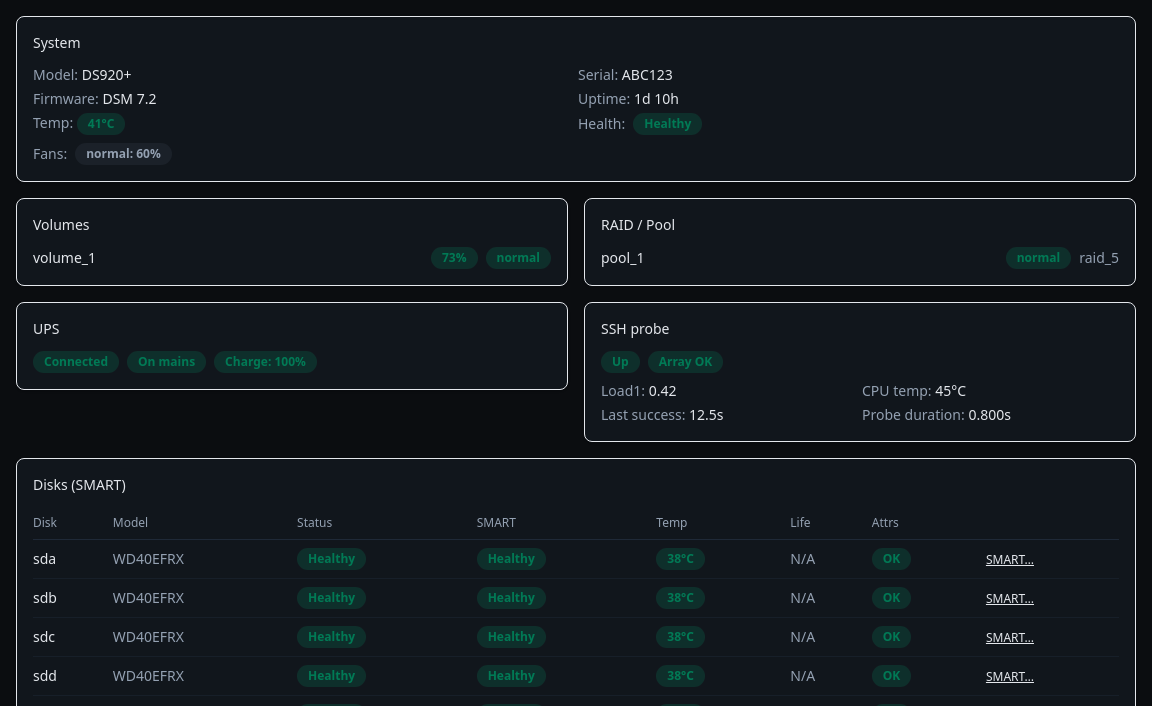
Scenario: SynologyHardwareTab › opens the SMART drill-down dialog and shows the attribute table
Click the button with test id "synology-disk-drill-sda".
click(1010, 560)  # box [986, 552, 1034, 568]
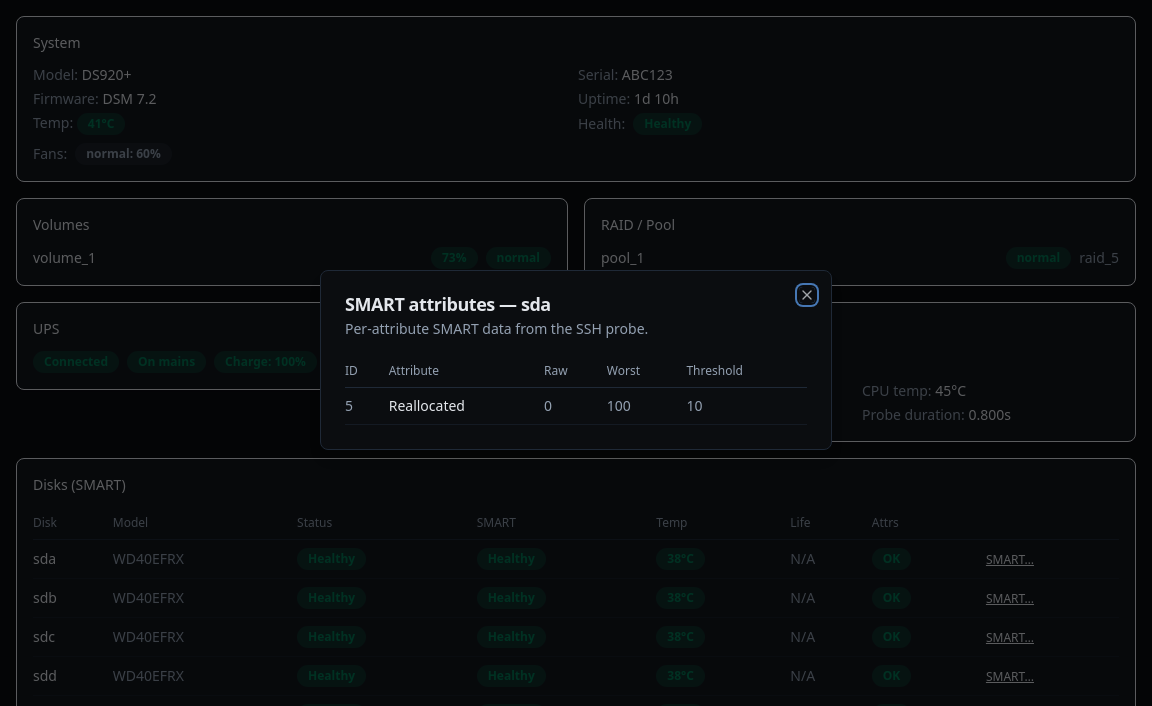
Expected: the dialog with test id "synology-smart-dialog" is shown, [320, 270, 832, 450]
Expected: the row with test id "synology-smart-attr-5" is shown, [345, 388, 807, 424]
Expected: the text "Reallocated" is shown, [389, 388, 544, 424]
